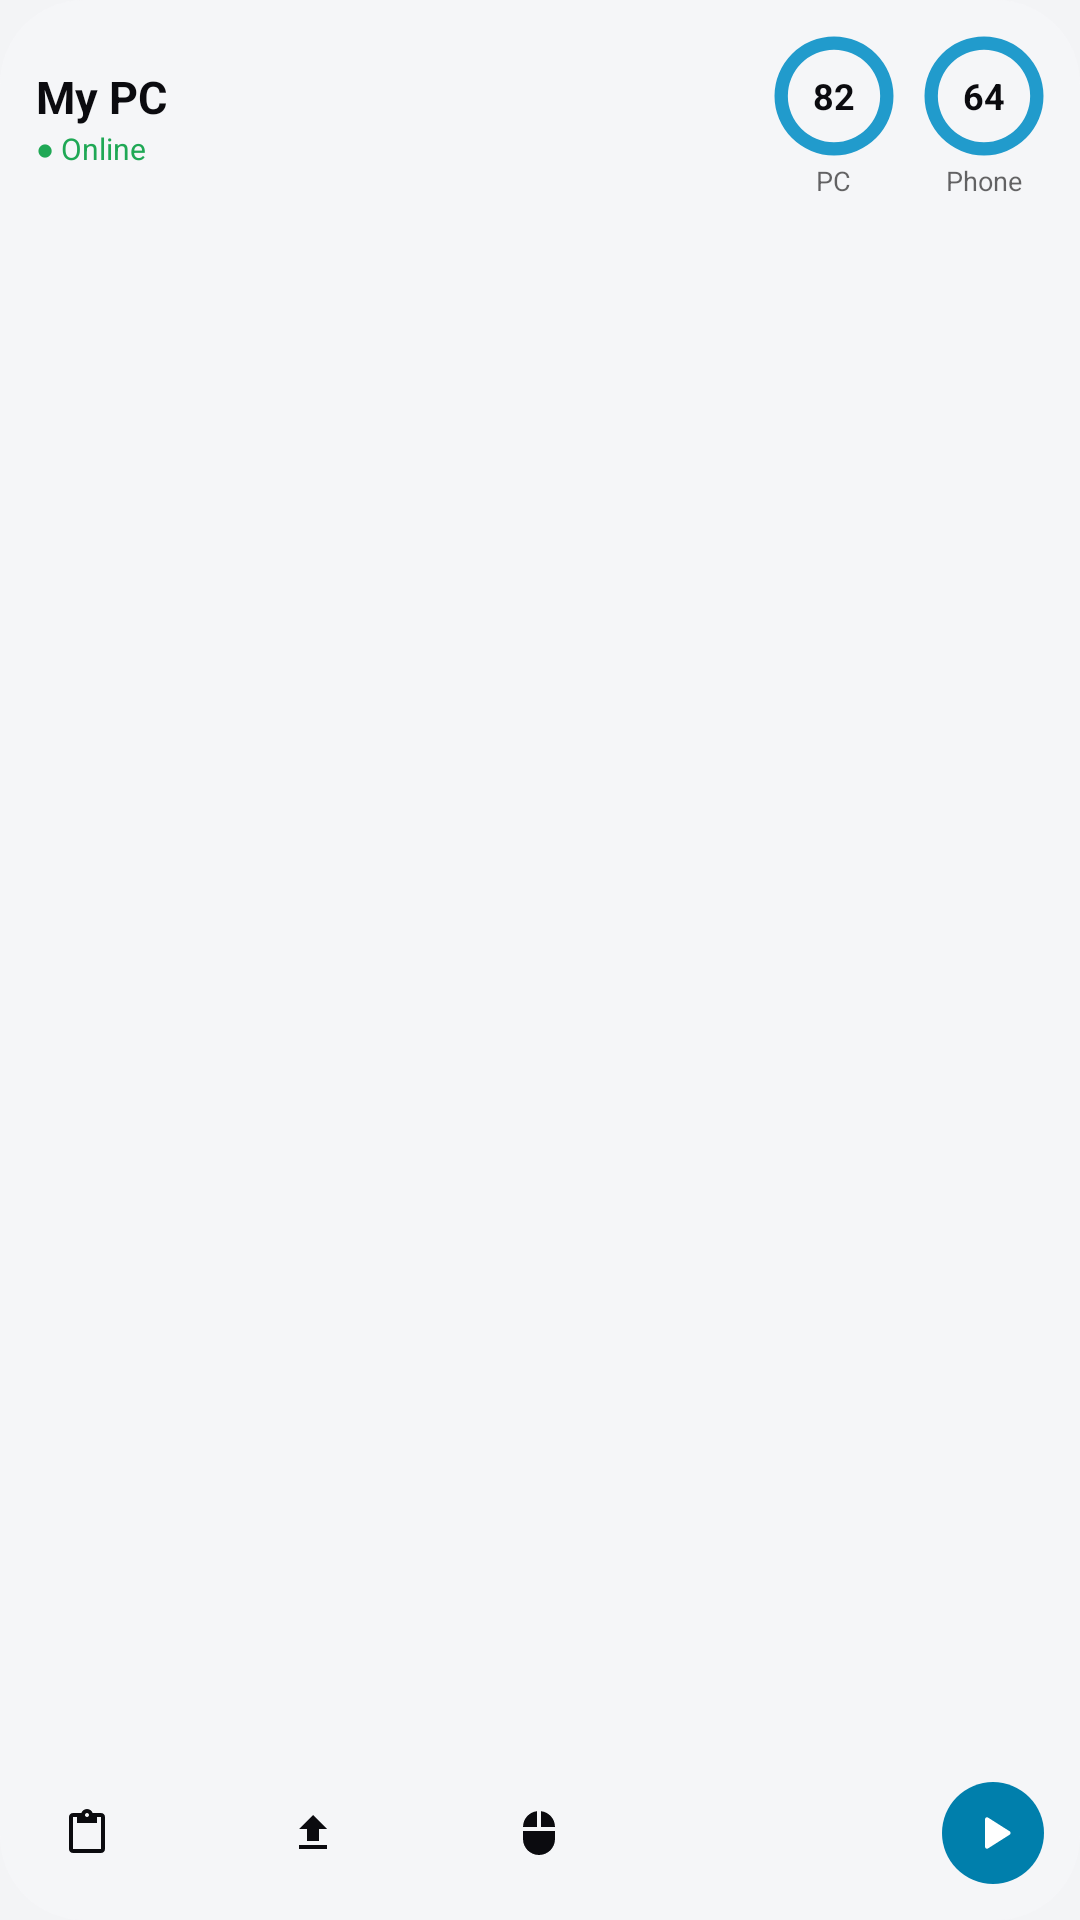

Screen size 1080x1920. Icon name, then its box in pixels as (x1, y1, x2, y2):
clipboard: (69, 1809, 105, 1853)
mouse: (523, 1811, 555, 1855)
play: (942, 1782, 1044, 1884)
upload: (299, 1815, 327, 1849)
